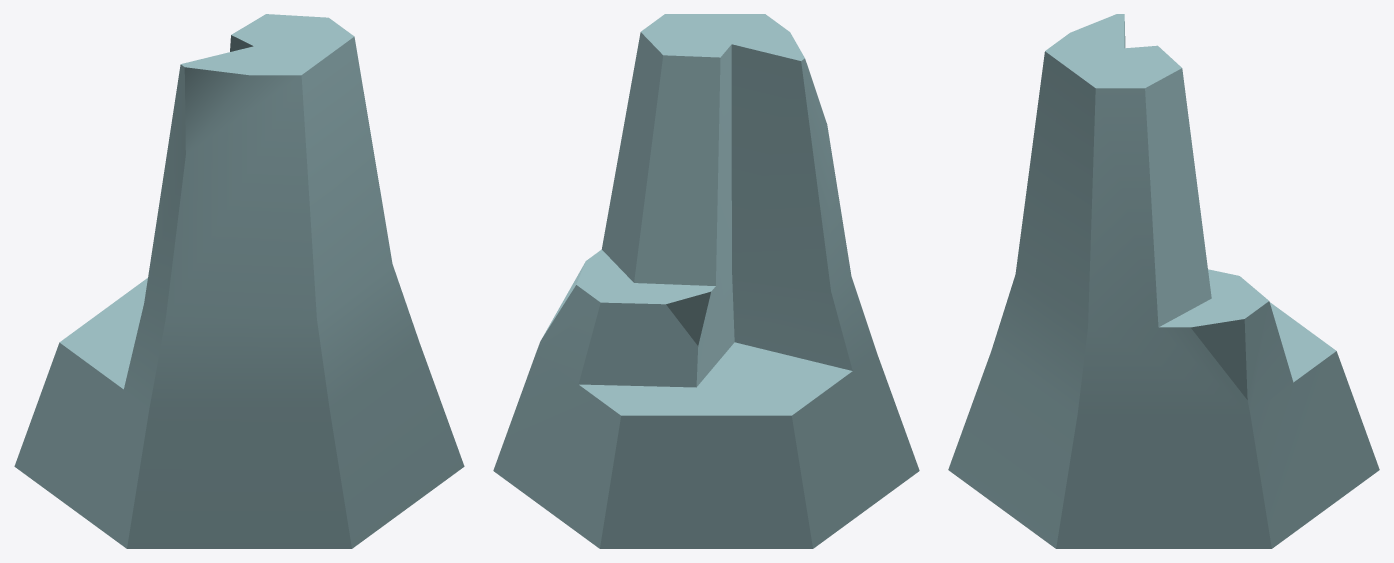
The model's file is stone_tall8.obj.
3 renders of one model, left to right at view 1: azimuth 30°, elevation 25°; view 2: azimuth 150°, elevation 25°; view 3: azimuth 270°, elevation 25°, orthographic. The views are drawn at different scales.
Visible parts, largest first — view 1: stone_tall8; view 2: stone_tall8; view 3: stone_tall8.
Part boxes in pixels (x1,y1,x2,y2): stone_tall8: (14, 14, 464, 548); stone_tall8: (493, 14, 919, 548); stone_tall8: (948, 14, 1379, 548).
Size of the model in its own units: 5.75 by 7.11 by 6.64.
